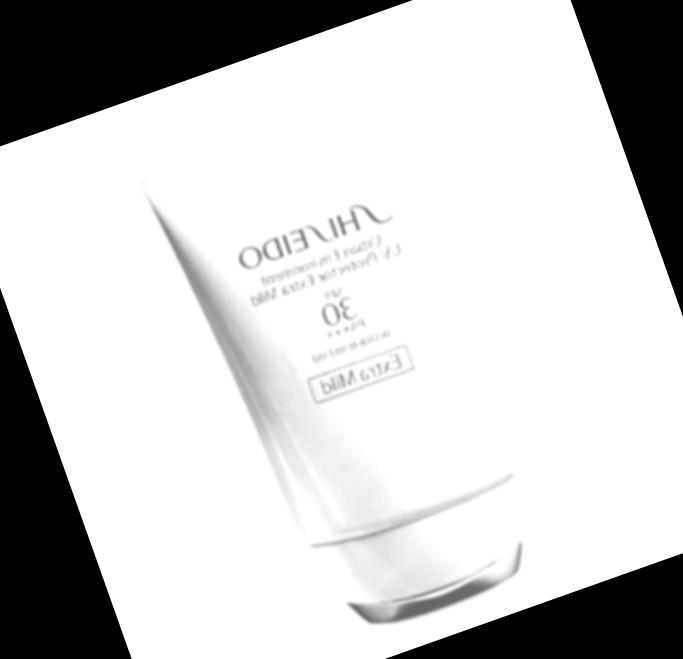cosmetic: (134, 75, 584, 659)
